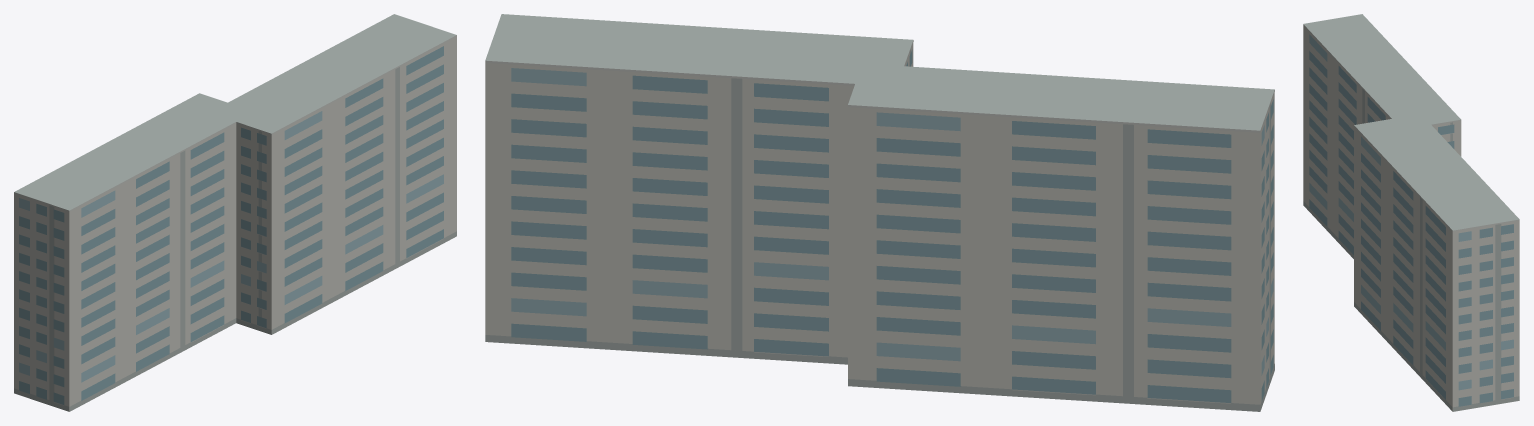
File: residential-d6f20703-6640-4c93-a959-13821dfa9197.glb
3 views of the same model, side by side, from view 1: azimuth 30°, elevation 25°; view 2: azimuth 150°, elevation 25°; view 3: azimuth 270°, elevation 25° (orthographic). The views are drawn at different scales.
Parts seen in each view (by area): view 1: residential-d6f20703-6640-4c93-a959-13821dfa9197.tmp; view 2: residential-d6f20703-6640-4c93-a959-13821dfa9197.tmp; view 3: residential-d6f20703-6640-4c93-a959-13821dfa9197.tmp.
Boxes of the visible parts, box(x1,y1,x2,y2) form: residential-d6f20703-6640-4c93-a959-13821dfa9197.tmp: box(14, 14, 456, 411); residential-d6f20703-6640-4c93-a959-13821dfa9197.tmp: box(485, 14, 1274, 411); residential-d6f20703-6640-4c93-a959-13821dfa9197.tmp: box(1303, 14, 1519, 411).
Size of the model in its own units: 85.99 by 33.55 by 36.33.
